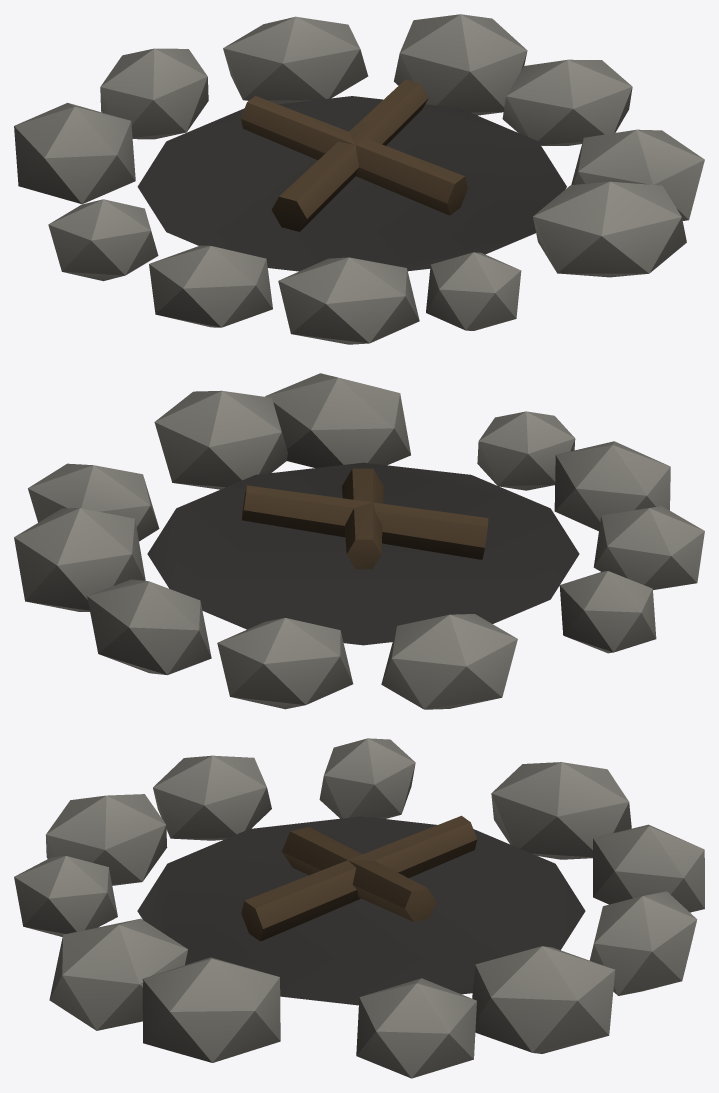
File: struct_fire_pit.glb
3 views of the same model, one above another, from view 1: azimuth 30°, elevation 25°; view 2: azimuth 150°, elevation 25°; view 3: azimuth 270°, elevation 25° (orthographic). The views are drawn at different scales.
Parts seen in each view (by area): view 1: stones, ash, logs; view 2: stones, ash, logs; view 3: stones, ash, logs.
Boxes of the visible parts, box(x1,y1,x2,y2) form: stones: box(14, 14, 704, 344); ash: box(137, 96, 566, 271); logs: box(240, 79, 467, 231); stones: box(14, 373, 704, 709); ash: box(147, 462, 579, 645); logs: box(241, 468, 488, 569); stones: box(14, 738, 704, 1078); ash: box(137, 816, 585, 1005); logs: box(241, 815, 477, 941).
Bounding box in the file's own units: 1.93 × 0.328 × 1.87.
